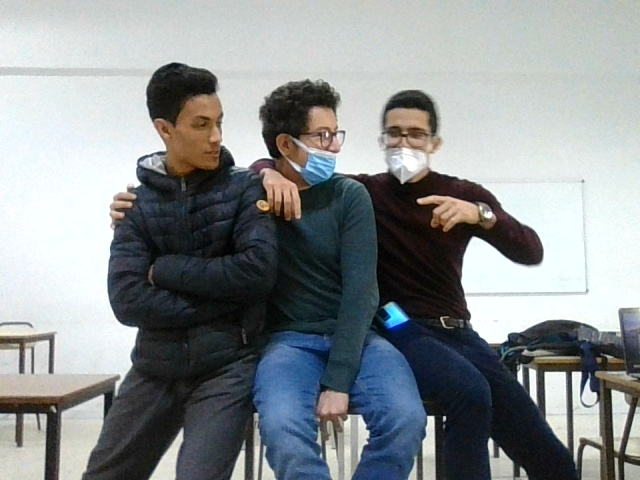mask_weared_incorrect: (254, 73, 349, 195), (374, 88, 446, 190)
without_mask: (133, 61, 236, 169)
